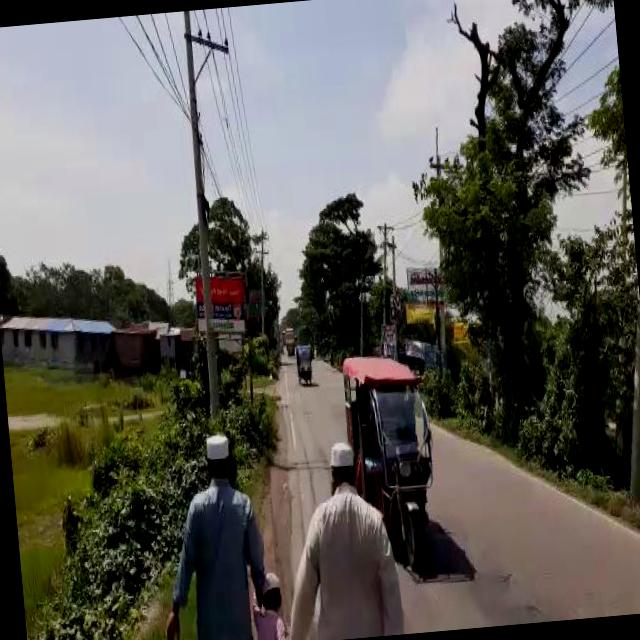motorcycle: (342, 348, 448, 576), (296, 339, 318, 382)
